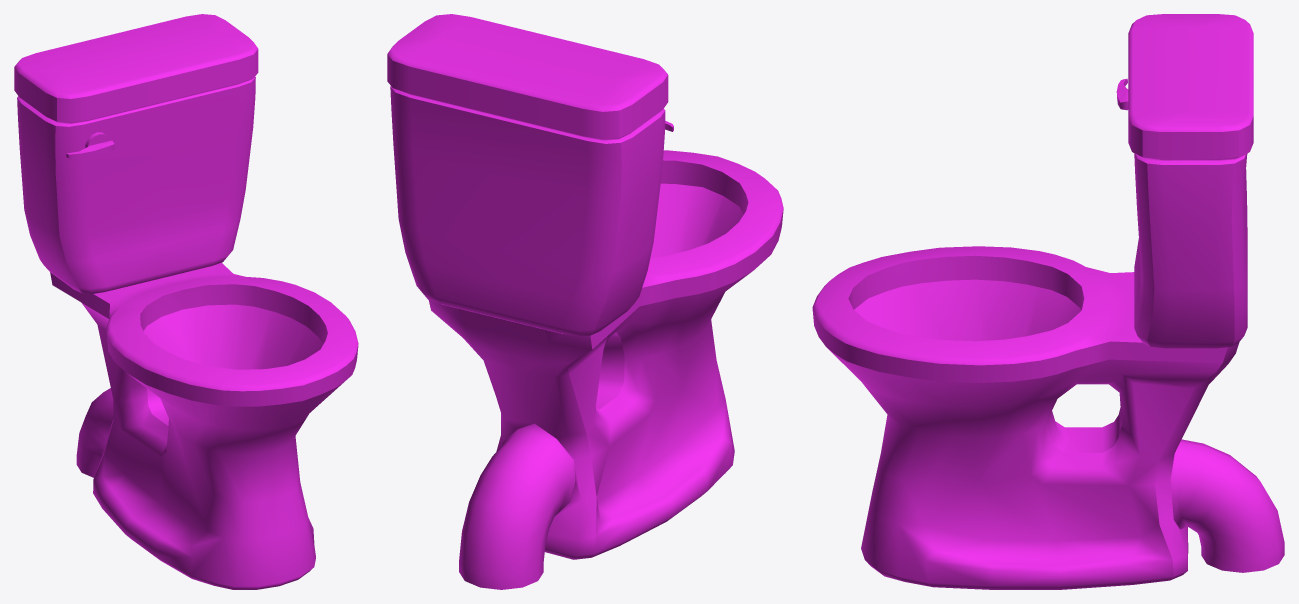
File: SM_ToiletSeat3.FBX
The picture shows the model from 3 angles, left to right: view 1: azimuth 30°, elevation 25°; view 2: azimuth 150°, elevation 25°; view 3: azimuth 270°, elevation 25°; orthographic projection. The views are drawn at different scales.
Parts seen in each view (by area): view 1: ToiletSeat3; view 2: ToiletSeat3; view 3: ToiletSeat3.
Part boxes in pixels (x1,y1,x2,y2): ToiletSeat3: (14, 14, 358, 589); ToiletSeat3: (387, 14, 783, 589); ToiletSeat3: (812, 14, 1284, 589).
Size of the model in its own units: 53.56 by 105 by 92.26.
